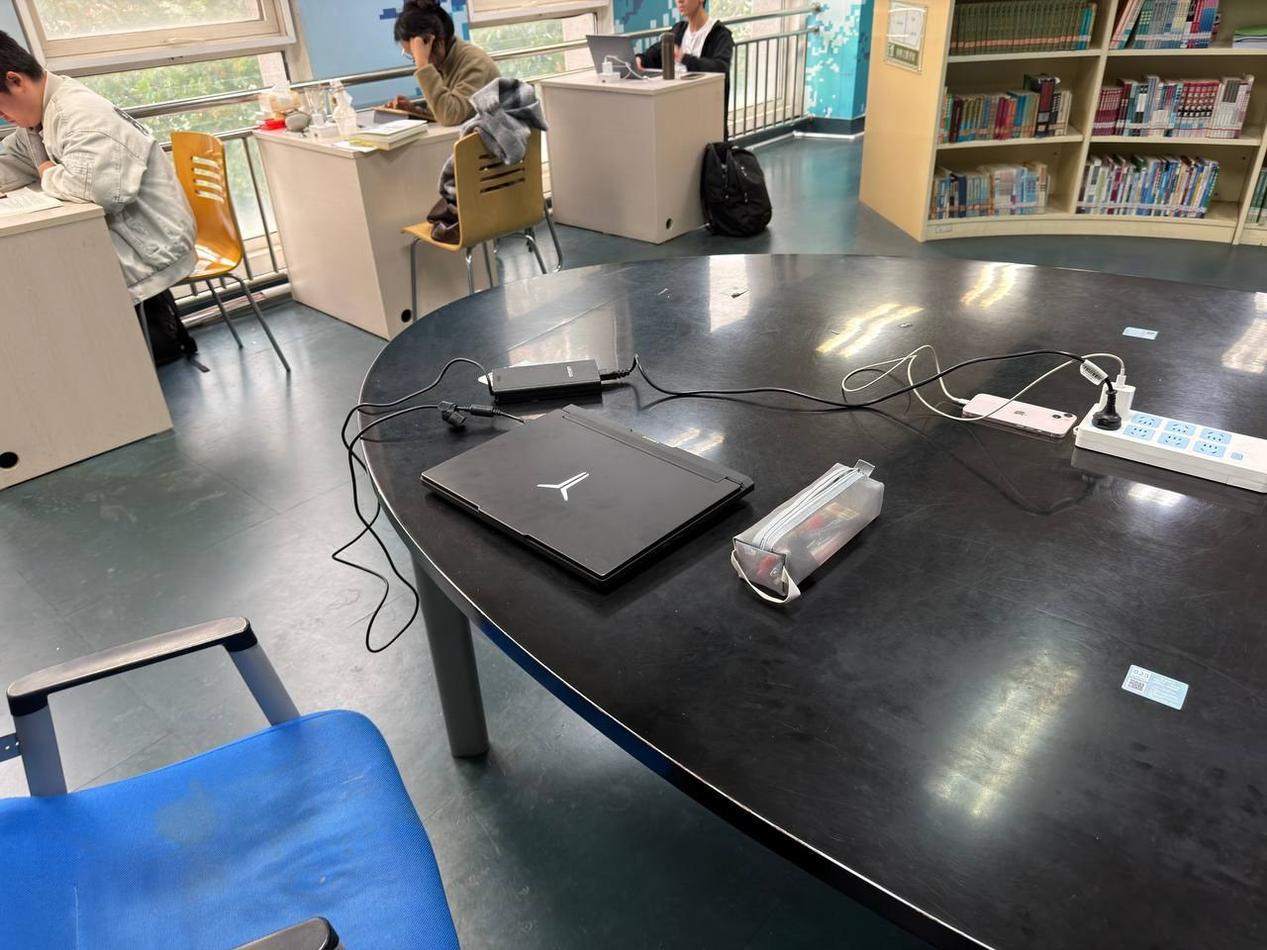cell phone: (962, 392, 1078, 439)
laptop: (420, 404, 755, 593), (586, 33, 655, 81)
